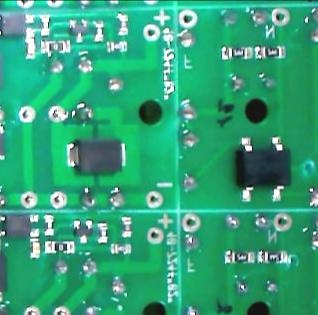chip-capacitor: (29, 236, 41, 258), (25, 37, 36, 59)
chip-resistor: (257, 249, 292, 265), (39, 38, 71, 55), (220, 45, 253, 61), (222, 249, 255, 265), (43, 239, 75, 255), (254, 45, 286, 59), (92, 18, 106, 42), (96, 220, 109, 245), (116, 12, 130, 35), (106, 40, 129, 53), (38, 13, 51, 36), (109, 242, 132, 255), (43, 212, 55, 236), (121, 215, 133, 238)
diode: (65, 137, 128, 175)
ic: (233, 135, 294, 204), (0, 212, 40, 238), (0, 13, 36, 36)
transistor: (73, 217, 95, 244), (69, 17, 90, 43)
